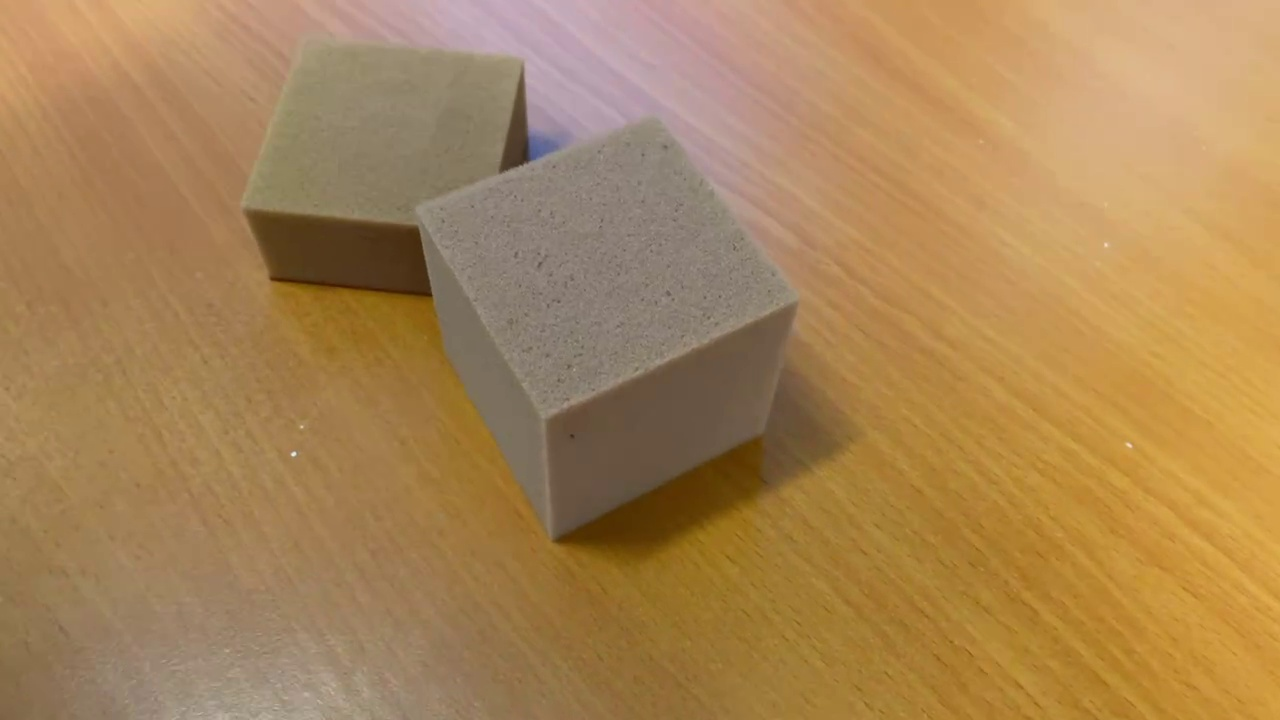Cube: (406, 112, 805, 548)
Cube_short: (239, 31, 530, 297)
